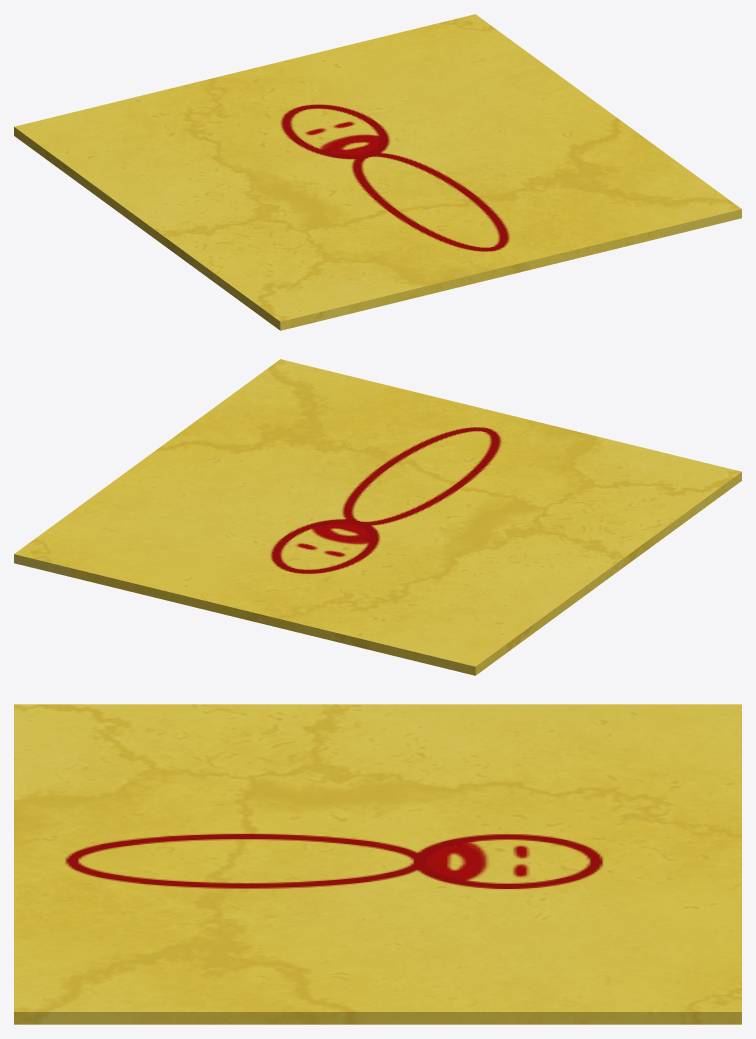
The model's file is Footboard_2.fbx.
3 views of the same model, one above another, from view 1: azimuth 30°, elevation 25°; view 2: azimuth 150°, elevation 25°; view 3: azimuth 270°, elevation 25° (orthographic). The views are drawn at different scales.
Parts seen in each view (by area): view 1: Box001; view 2: Box001; view 3: Box001.
Boxes of the visible parts, <box> form: Box001: <box>14,14,741,330</box>; Box001: <box>14,359,741,675</box>; Box001: <box>14,704,741,1024</box>.
Bounding box in the file's own units: 31.5 × 0.5906 × 31.5.
